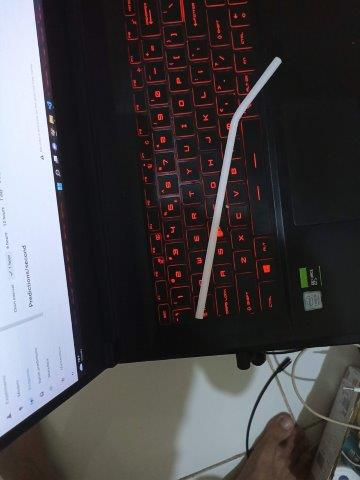sedotan: (195, 57, 282, 319)
